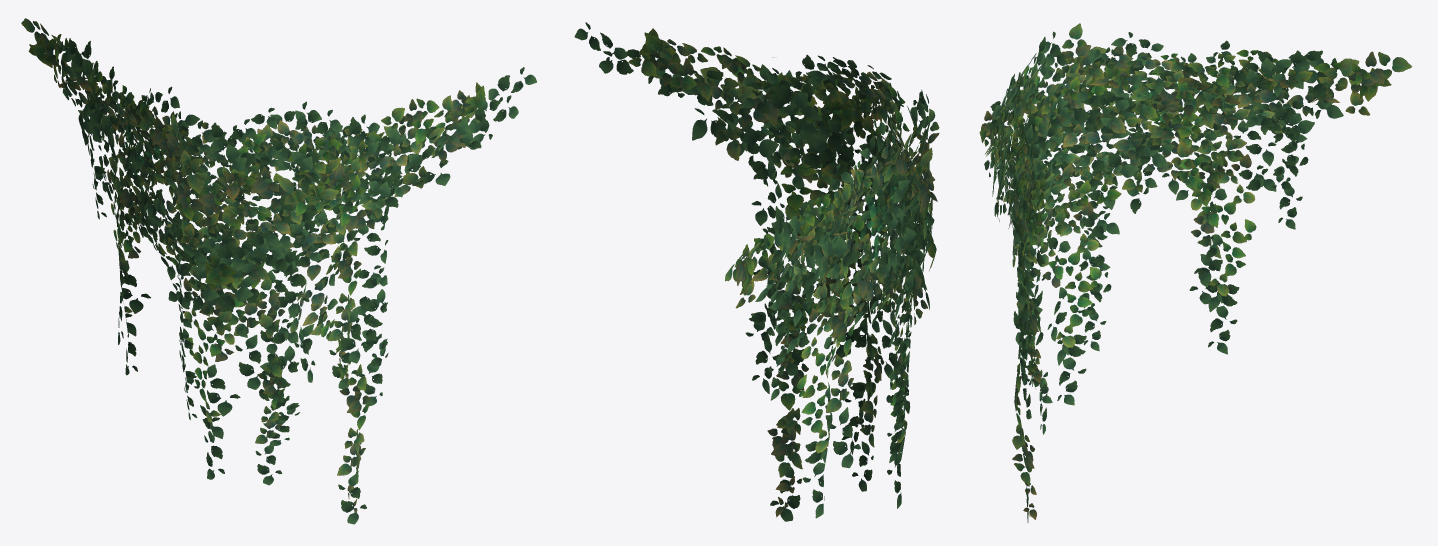
The model's file is SM_Ivy_Side_E.fbx.
The picture shows the model from 3 angles, left to right: view 1: azimuth 30°, elevation 25°; view 2: azimuth 150°, elevation 25°; view 3: azimuth 270°, elevation 25°; orthographic projection. The views are drawn at different scales.
Parts seen in each view (by area): view 1: SM_Ivy_Side_E_LOD0; view 2: SM_Ivy_Side_E_LOD0; view 3: SM_Ivy_Side_E_LOD0.
Boxes of the visible parts, x1,y1,x2,y2 form: SM_Ivy_Side_E_LOD0: [21, 18, 536, 524]; SM_Ivy_Side_E_LOD0: [574, 22, 939, 521]; SM_Ivy_Side_E_LOD0: [979, 23, 1411, 522].
Bounding box in the file's own units: 426 × 517 × 471.
